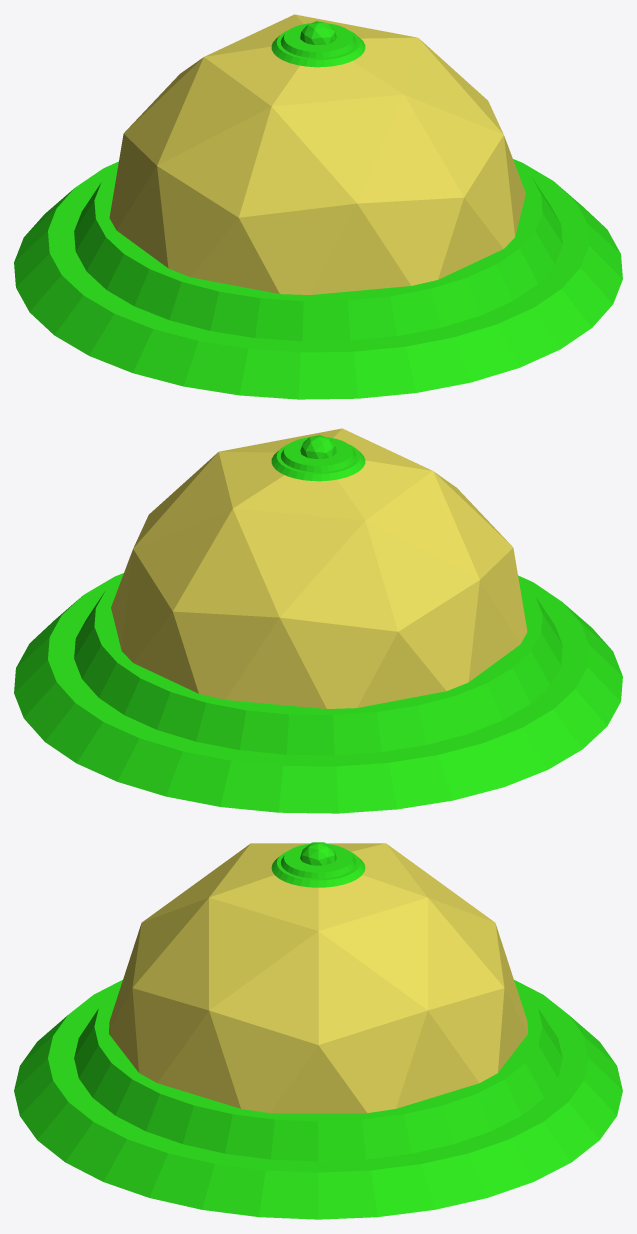
Rendered from boob ceiling light.fbx.
The picture shows the model from 3 angles, top to bottom: view 1: azimuth 30°, elevation 25°; view 2: azimuth 150°, elevation 25°; view 3: azimuth 270°, elevation 25°; orthographic projection.
Visible parts, largest first — view 1: Icosphere, Cylinder, Cylinder.001, Icosphere.001; view 2: Icosphere, Cylinder, Cylinder.001, Icosphere.001; view 3: Icosphere, Cylinder, Cylinder.001, Icosphere.001.
Boxes of the visible parts, x1,y1,x2,y2 form: Icosphere: (109, 14, 525, 294); Cylinder: (14, 159, 622, 399); Cylinder.001: (271, 23, 365, 67); Icosphere.001: (300, 21, 336, 45); Icosphere: (111, 428, 527, 708); Cylinder: (14, 573, 622, 813); Cylinder.001: (271, 437, 365, 481); Icosphere.001: (300, 435, 336, 459); Icosphere: (109, 843, 527, 1113); Cylinder: (14, 980, 622, 1219); Cylinder.001: (271, 844, 365, 887); Icosphere.001: (300, 842, 336, 865).
Size of the model in its own units: 210 by 94.05 by 210.
